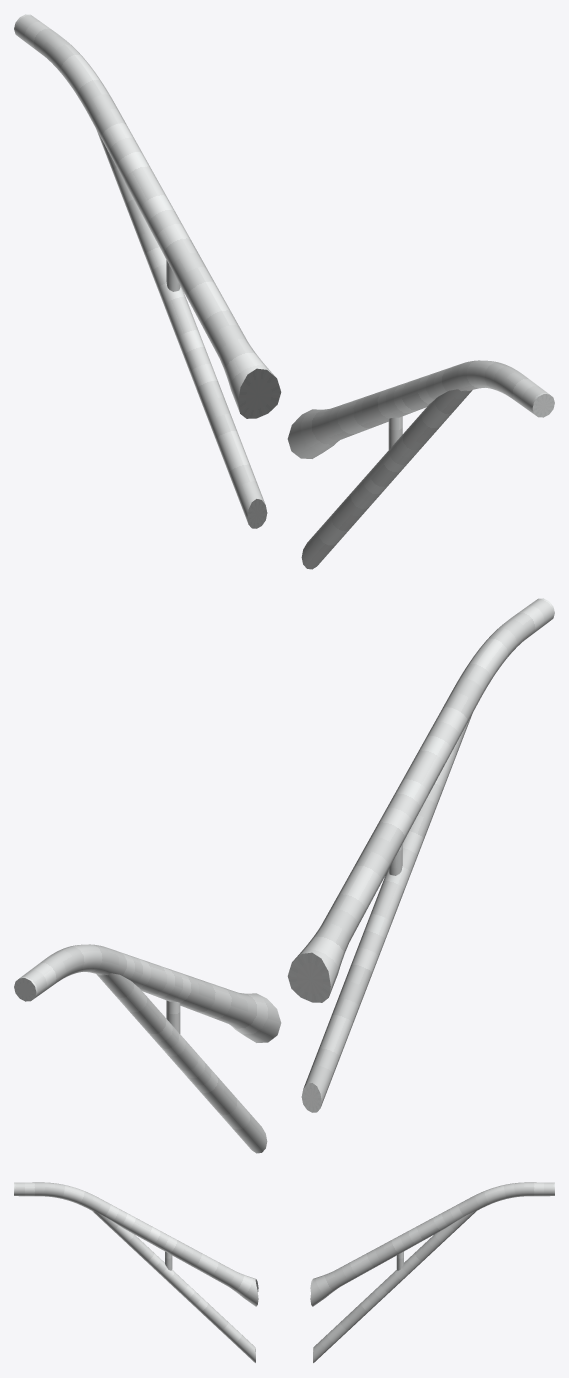
The model's file is luminairearm_truss8ftstraightdouble_inv.obj.
3 renders of one model, top to bottom at view 1: azimuth 30°, elevation 25°; view 2: azimuth 150°, elevation 25°; view 3: azimuth 270°, elevation 25°, orthographic. The views are drawn at different scales.
Visible parts, largest first — view 1: luminairearm_truss8ftstraightdouble_inv; view 2: luminairearm_truss8ftstraightdouble_inv; view 3: luminairearm_truss8ftstraightdouble_inv.
Part boxes in pixels (x1,y1,x2,y2): luminairearm_truss8ftstraightdouble_inv: (14, 14, 554, 569); luminairearm_truss8ftstraightdouble_inv: (14, 598, 554, 1153); luminairearm_truss8ftstraightdouble_inv: (14, 1182, 554, 1362).
Bounding box in the file's own units: 0.0482 × 0.3674 × 1.
